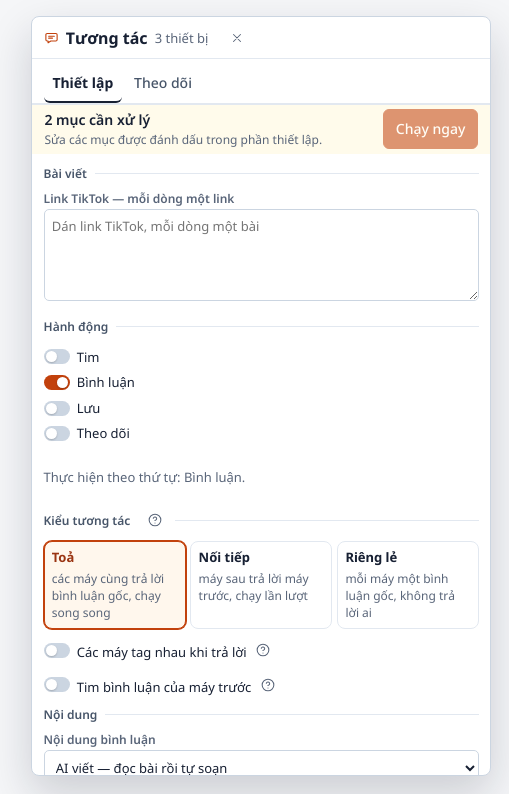
Scenario: InteractionPopup › does not warn about cohorts that have no link to work on
Type "https://www.tiktok.com/@creator/video/123" into the text box labelled "Link TikTok — mỗi dòng một link" at (261, 255), box [44,209,479,301]
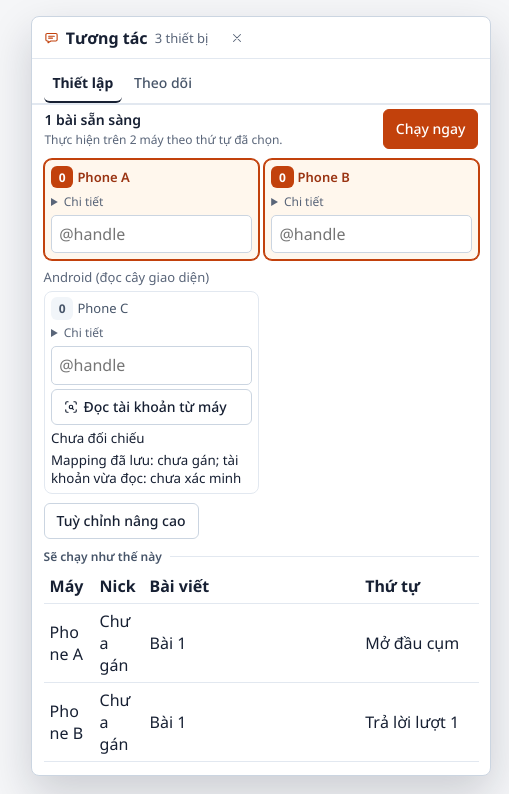
expect the text "Sẽ chạy như thế này" is shown: met, box [44,548,162,564]
